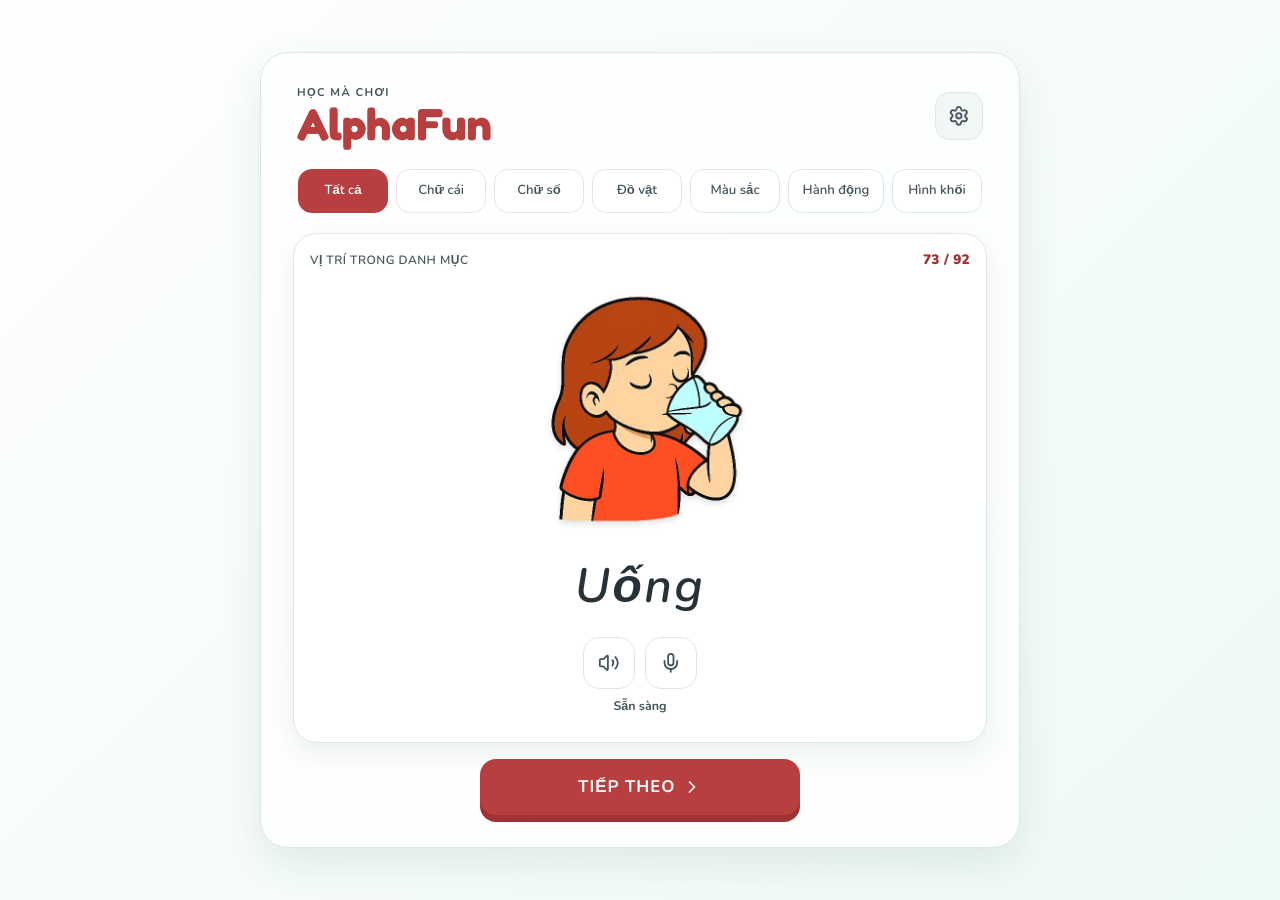
App Component Extended Tests › shows a completed recording for replay and cleans it up on unmount
Click the button named "Ghi âm giọng nói": (671, 663) [645,637,697,689]
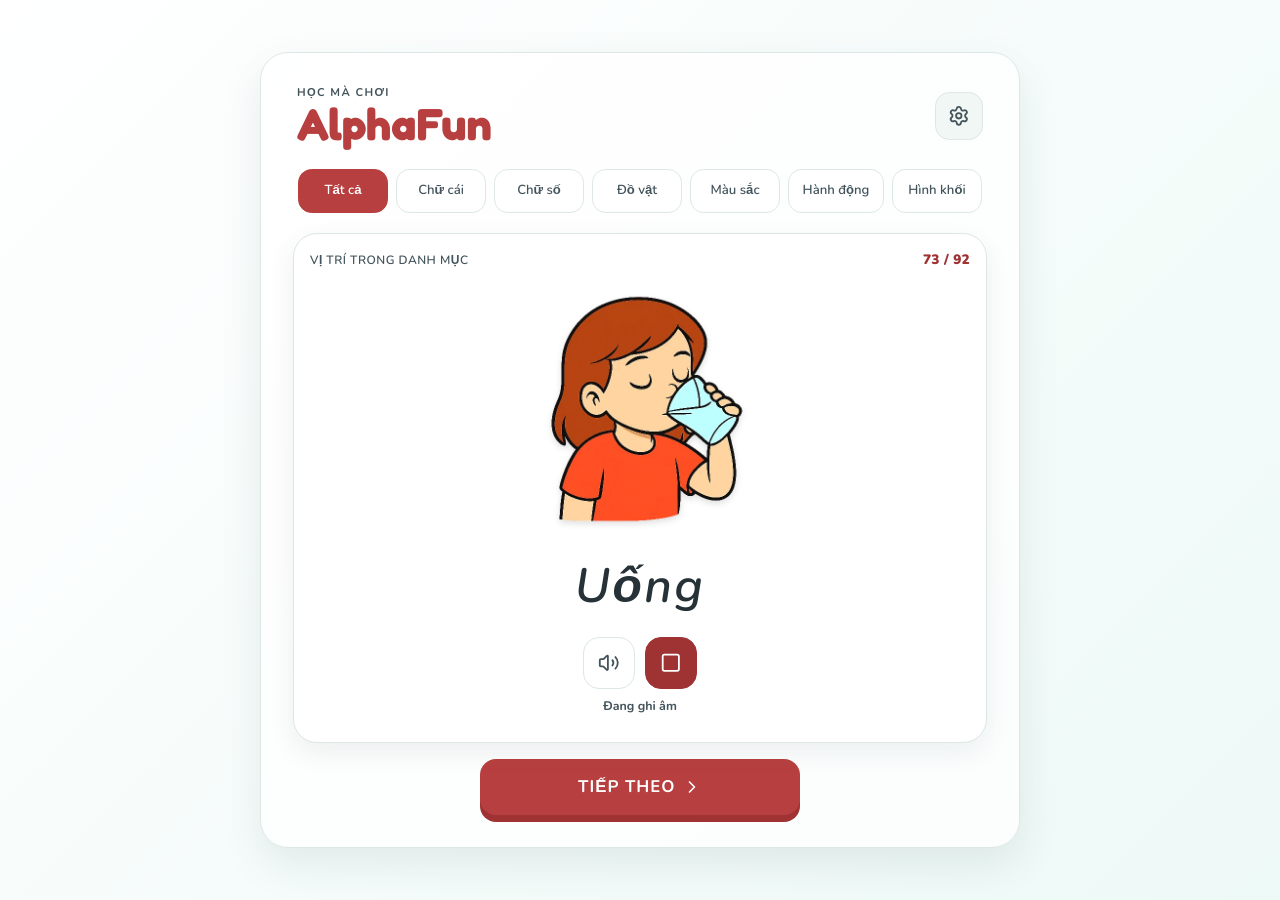
Check: the button named "Dừng ghi âm" is shown
Click the button named "Dừng ghi âm": (671, 663) [645,637,697,689]
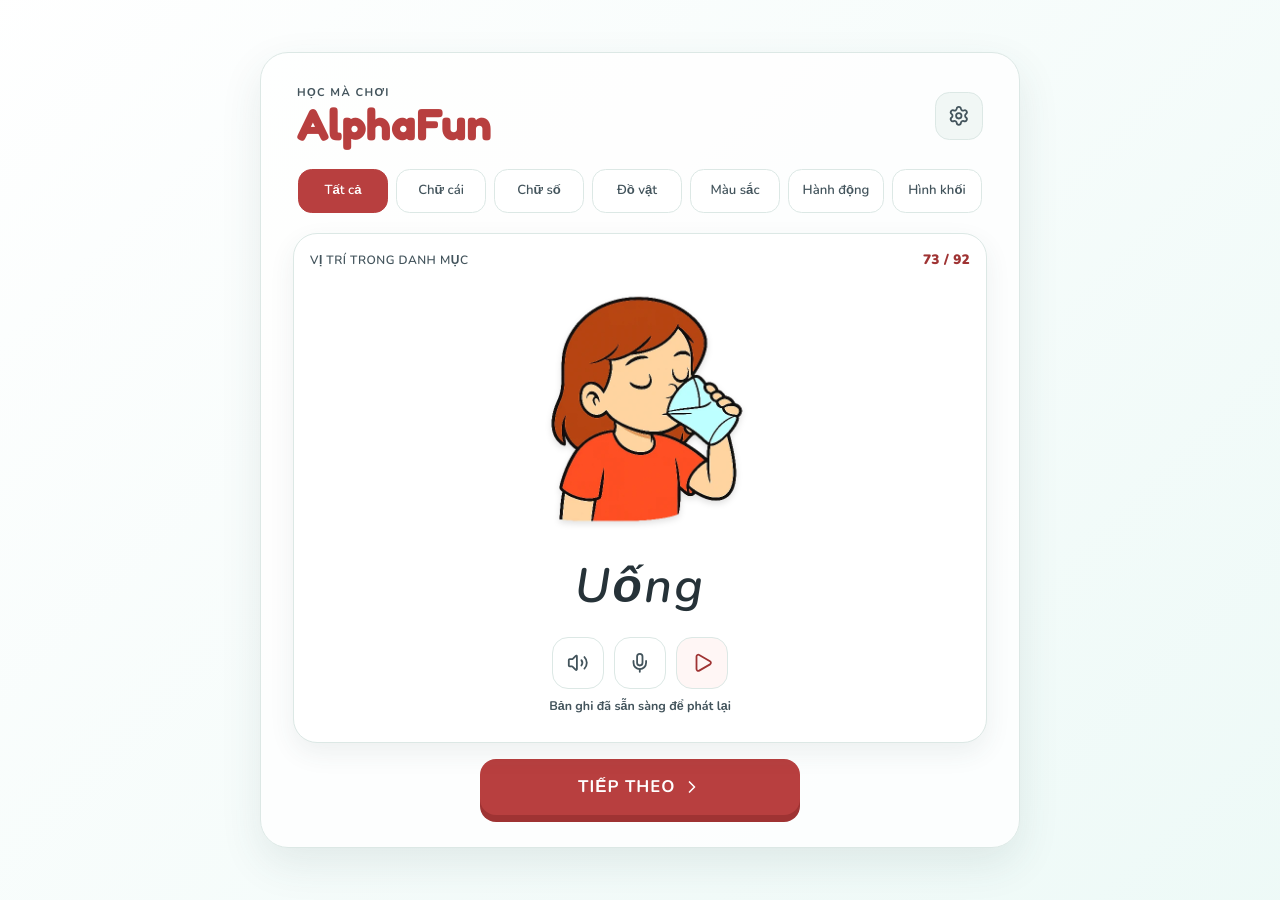
Check: the button named "Phát bản ghi" is shown, box [676,637,728,689]
Check: the message reads "Bản ghi đã sẵn sàng để phát lại", box [549,697,731,714]
